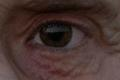eye: (42, 23, 72, 47)
